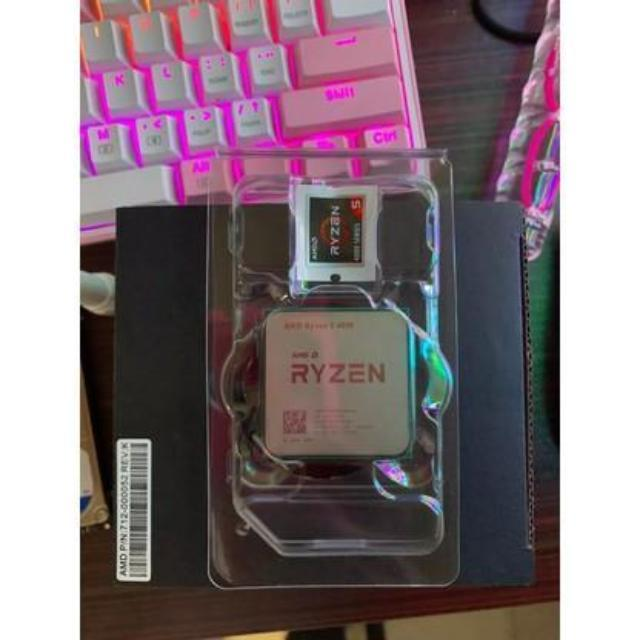CPU: (258, 307, 413, 461)
